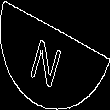N_N: (35, 24, 75, 86)
